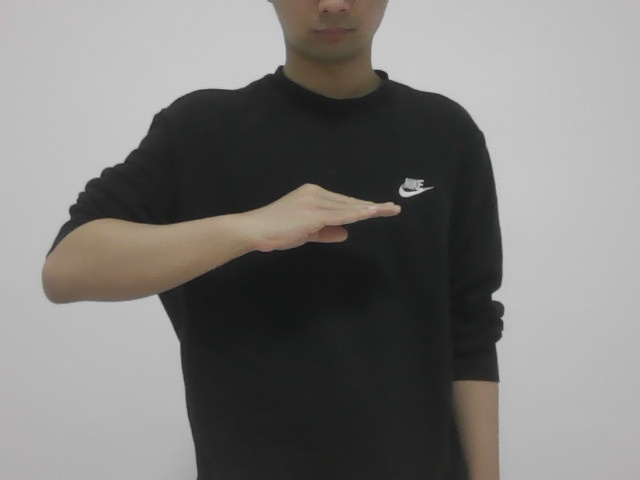late/night: (234, 181, 416, 257)
